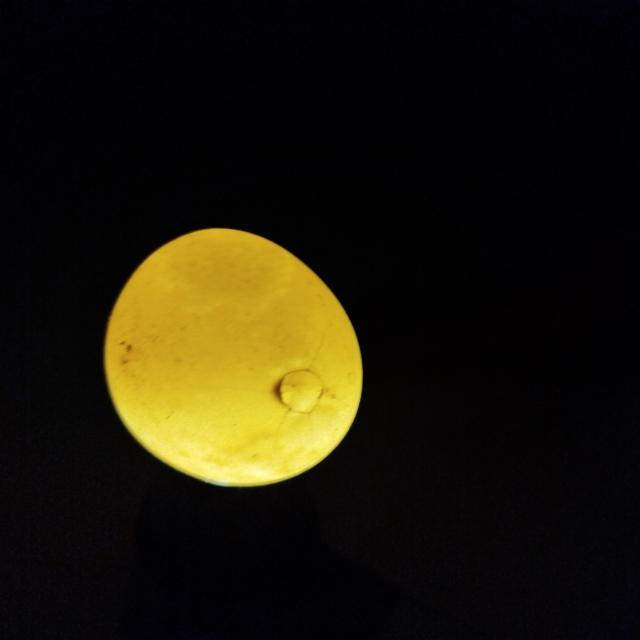Camara de Ar: (142, 229, 296, 310)
Rachadura: (220, 351, 325, 439)
